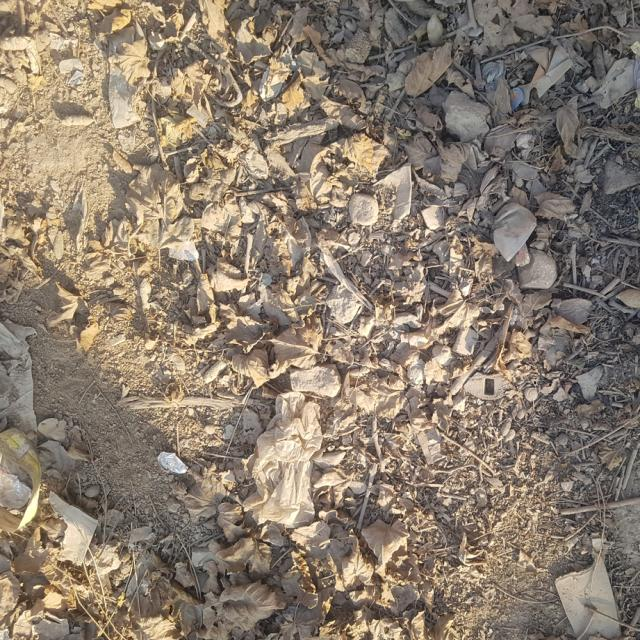paper: (364, 511, 412, 567), (342, 181, 382, 236), (532, 243, 562, 295)
